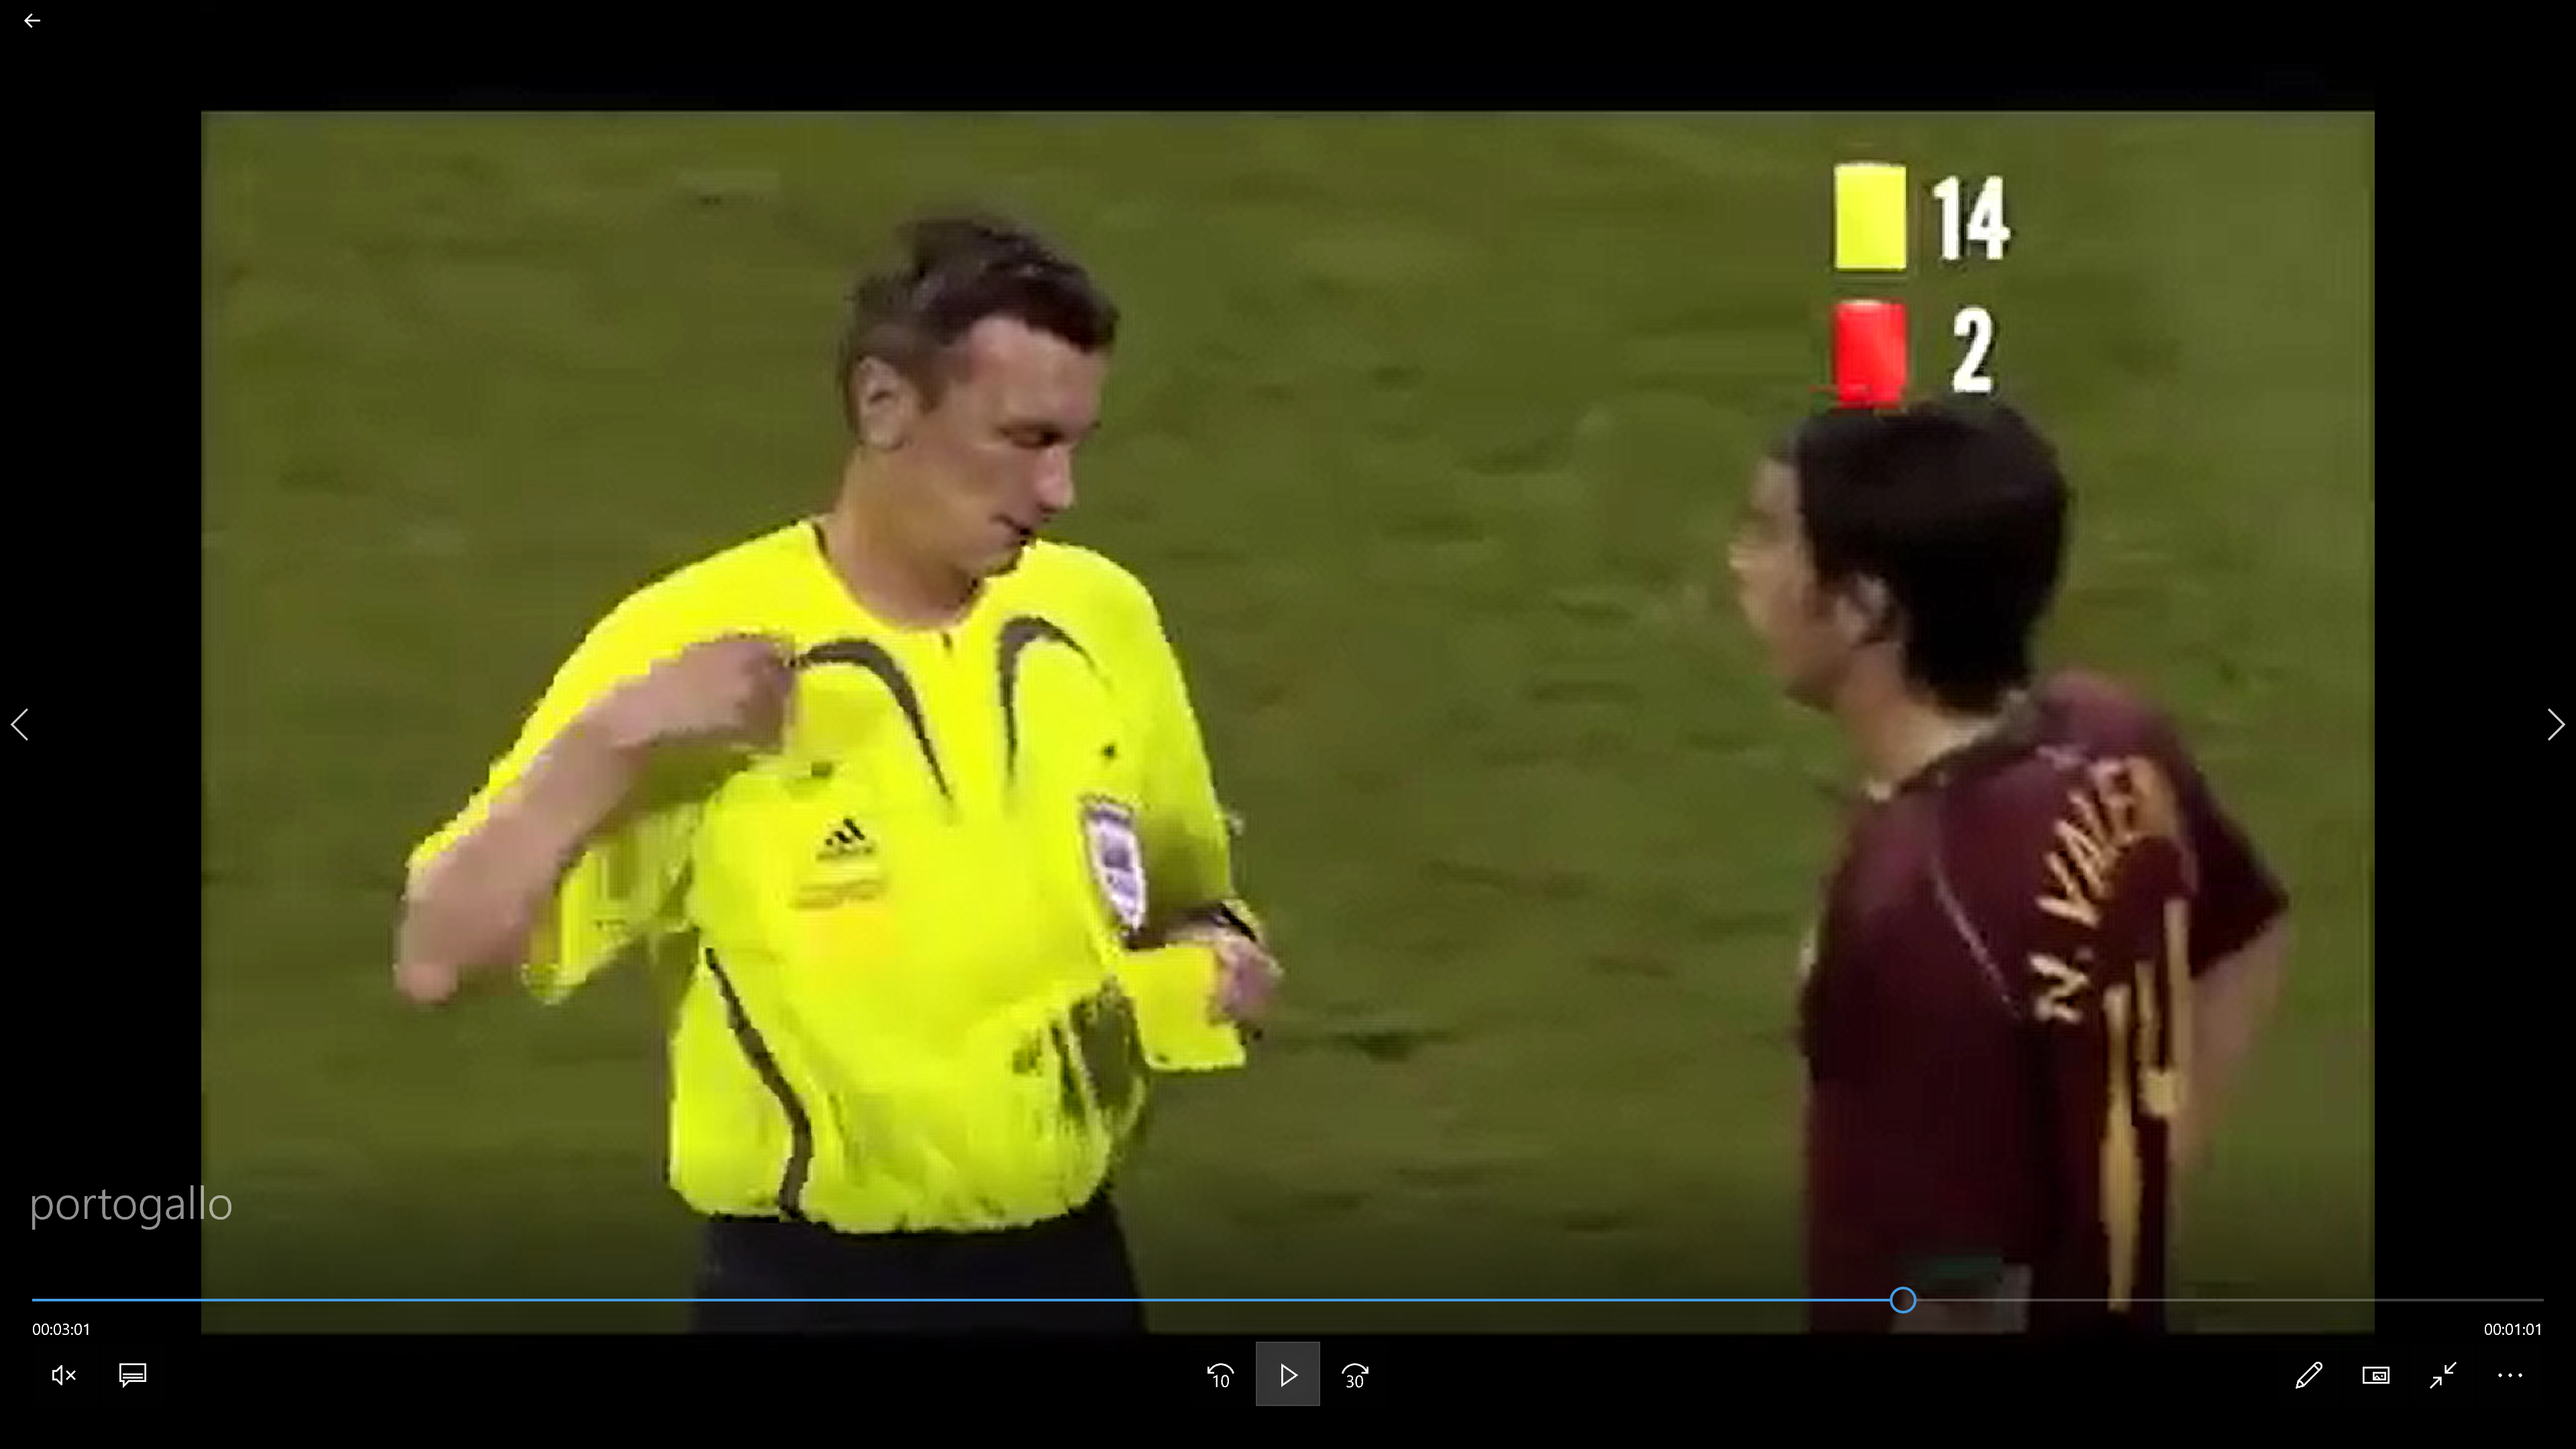yellow_card: (1104, 909, 1292, 1088)
